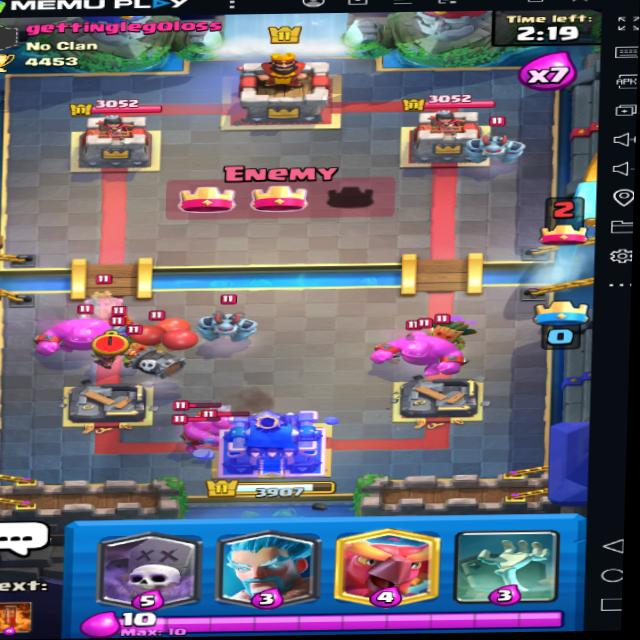Dartgoblin: (102, 323, 148, 364), (433, 310, 483, 345)
Egolem: (26, 300, 131, 356), (363, 329, 474, 381), (184, 405, 252, 445), (171, 413, 228, 451)
Firecracker: (394, 309, 438, 341)
Megaminion: (450, 114, 536, 172), (193, 303, 257, 344)
Royalghost: (74, 274, 132, 322)
Skeletonbarrel: (127, 305, 194, 379)
Valk: (184, 405, 227, 434)
